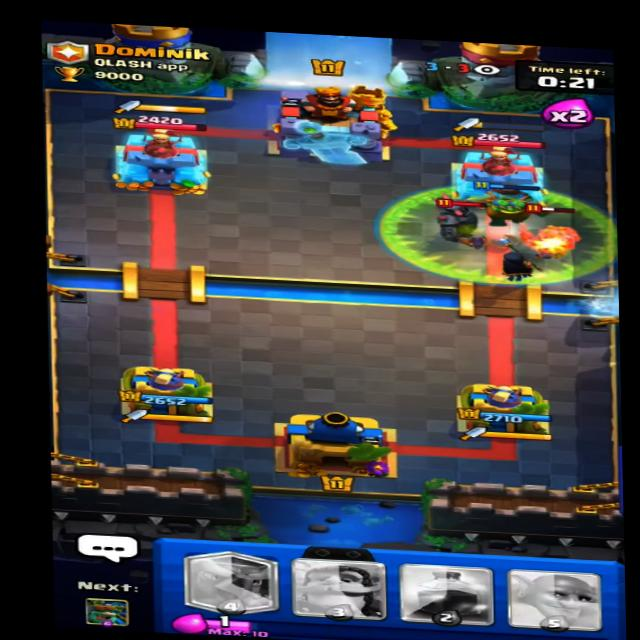Pekka: (419, 195, 503, 247)
Royalghost: (524, 206, 584, 257)
